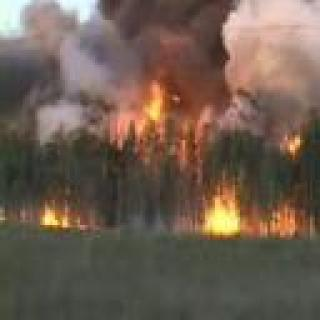fire: (138, 66, 174, 122), (206, 185, 246, 235), (38, 204, 78, 228), (278, 206, 306, 232)
